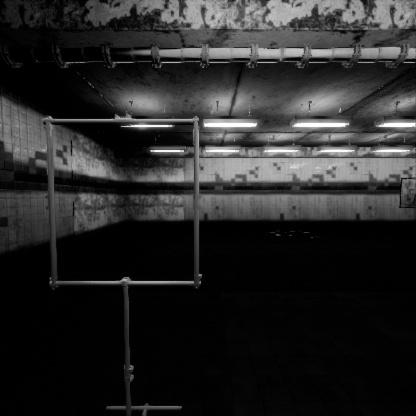gate: (46, 128, 213, 297)
